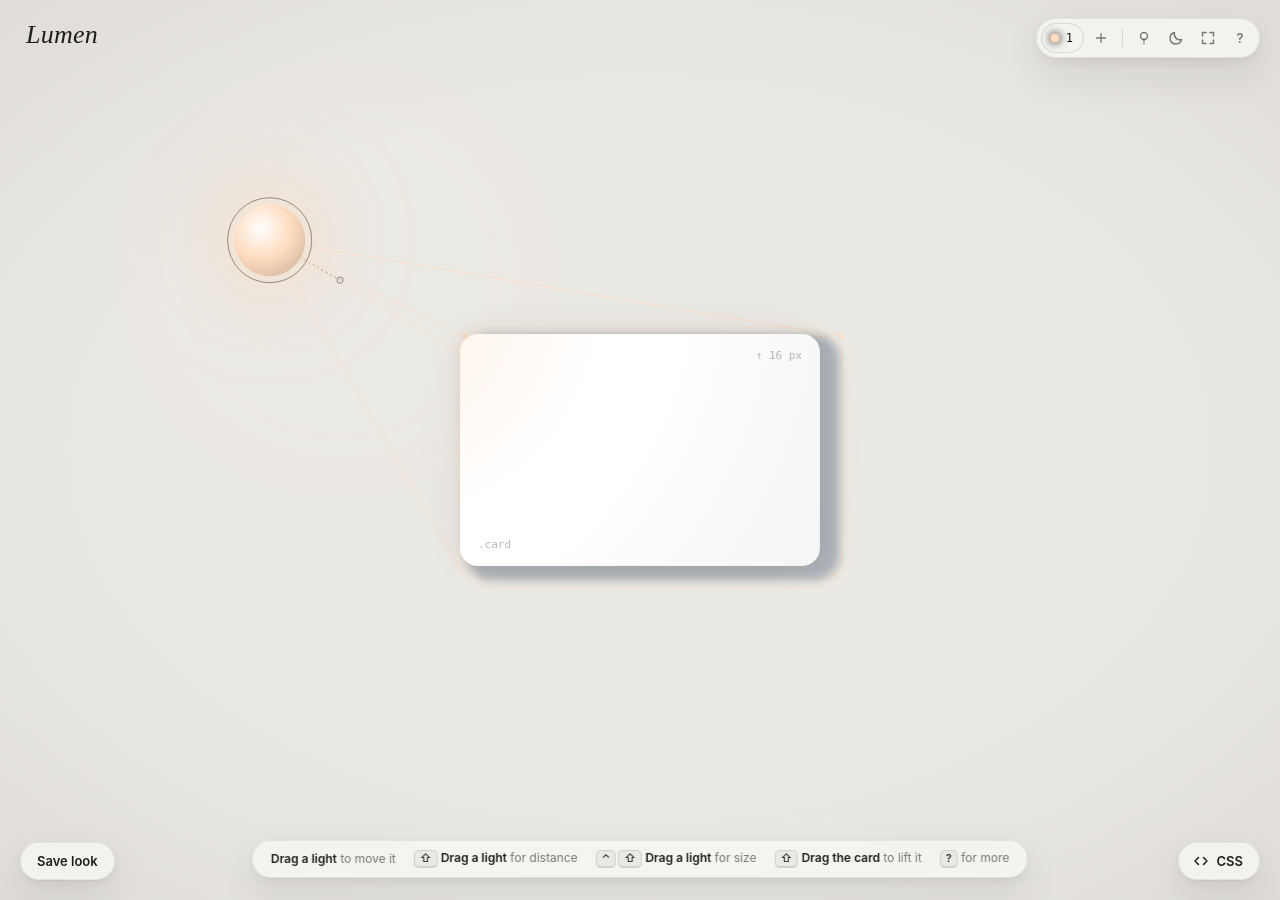
a light button toggles its panel, and typed values change the light
The image size is (1280, 900).
Step 1. Click the button named "Light 1 settings" → (1062, 38), box 1041,23 -> 1084,53
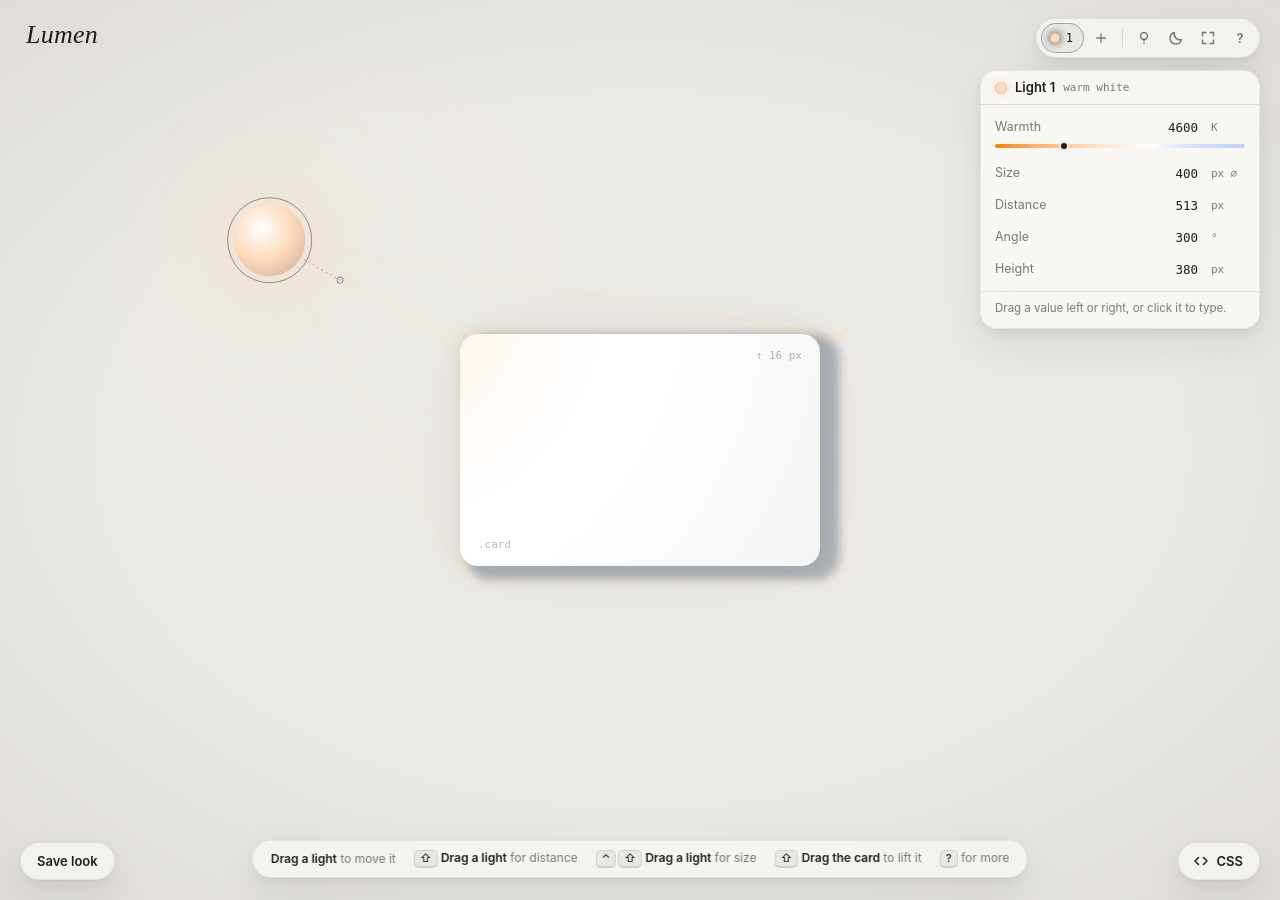
Step 2. Replace the text in the field named "Warmth (K)" with "2700" → (1169, 127), box 1133,114 -> 1205,140
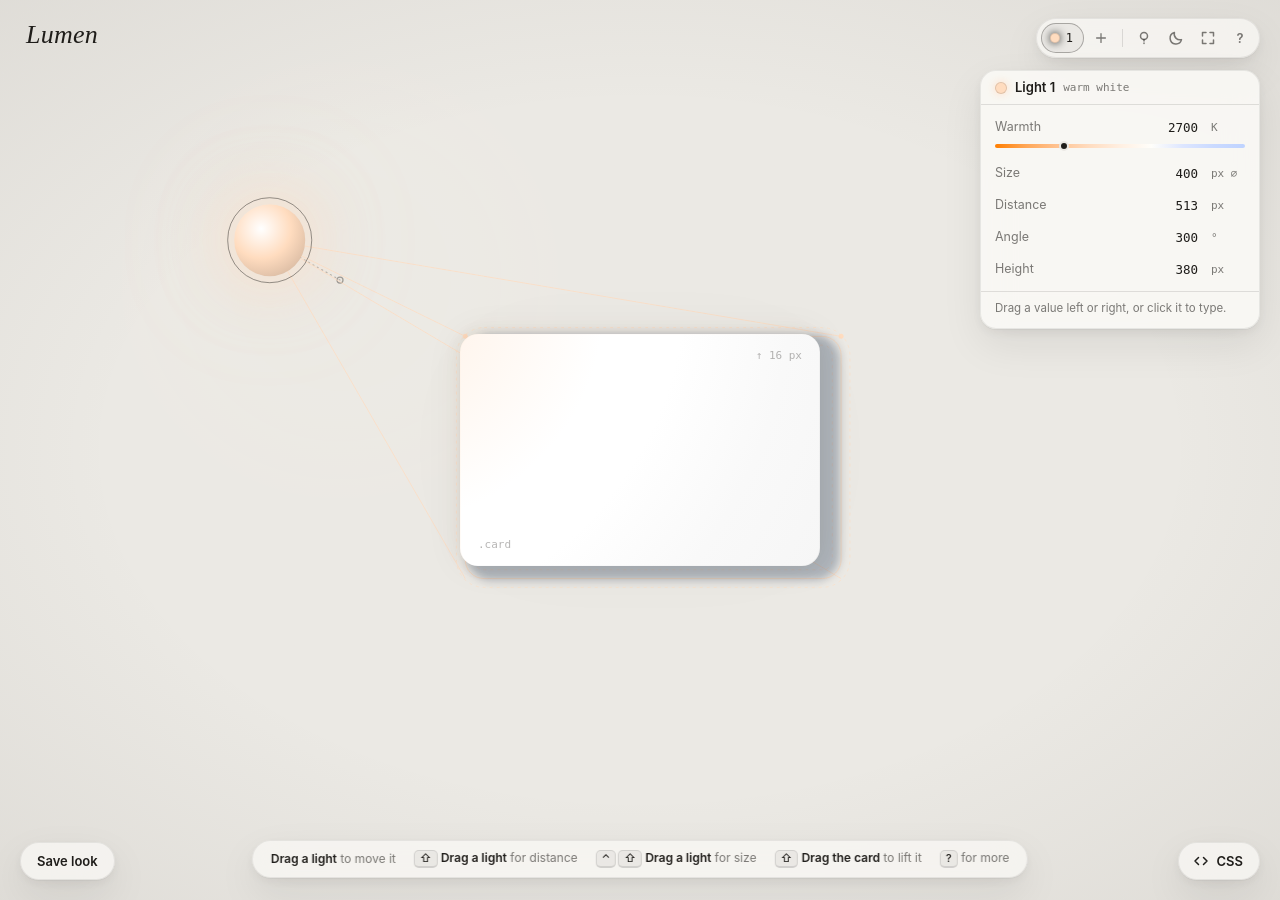
Step 3. Press Enter in the field named "Warmth (K)", box 1133,114 -> 1205,140
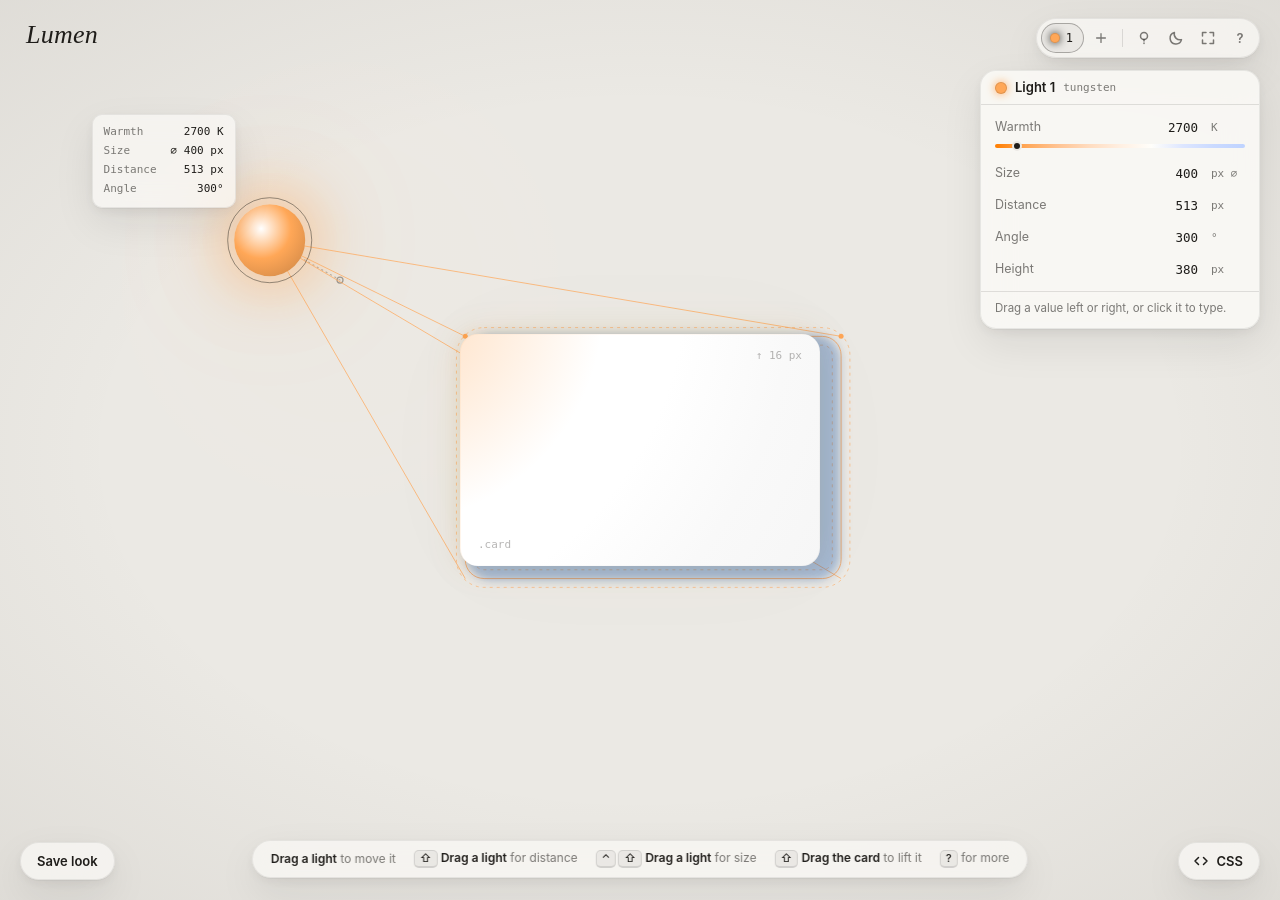
Expected: the button named "light 1, 2700 kelvin" is shown, 234,204 -> 305,276
Step 4. Replace the text in the field named "Warmth (K)" with "99999" → (1169, 127), box 1133,114 -> 1205,140
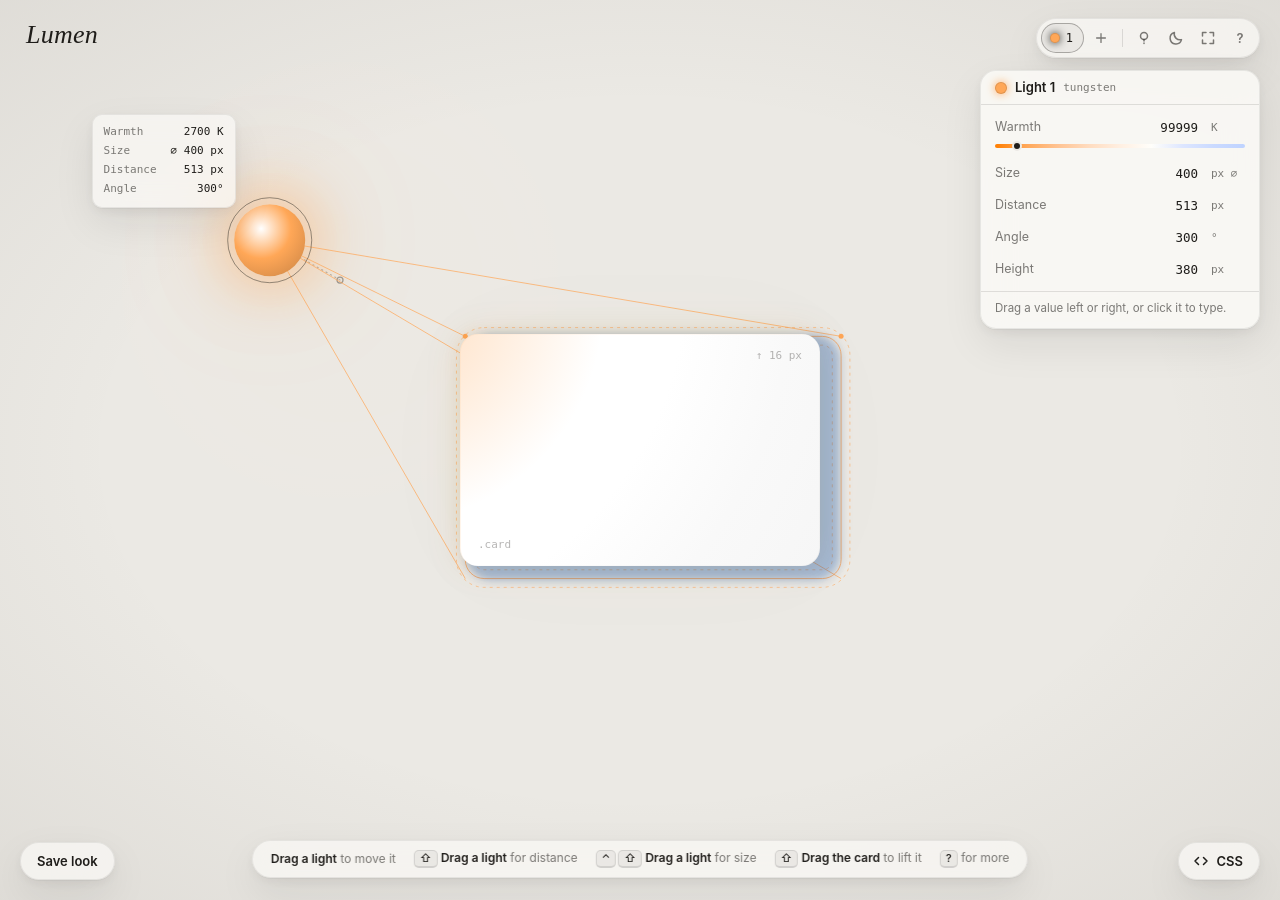
Step 5. Press Enter in the field named "Warmth (K)", box 1133,114 -> 1205,140
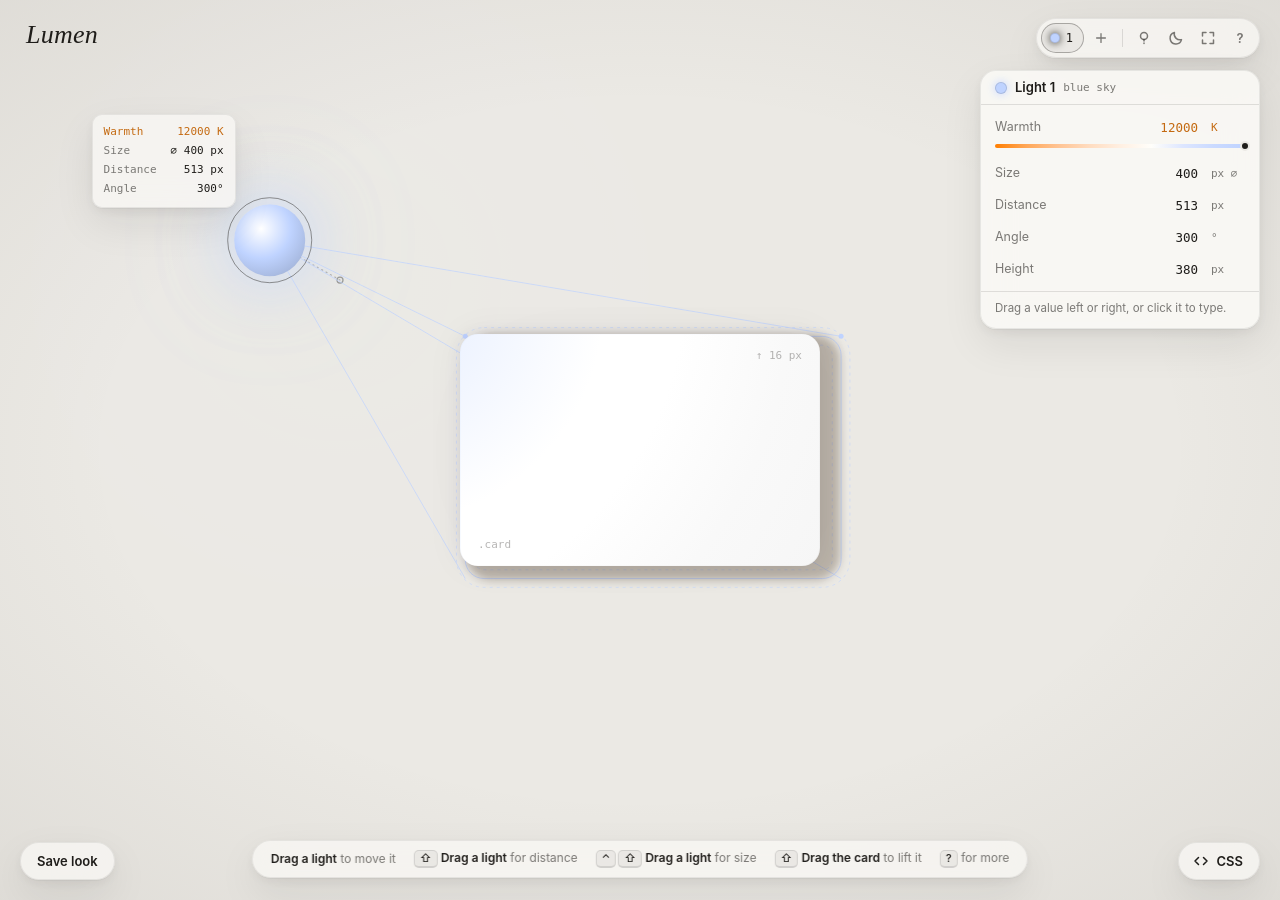
Expected: the button named "light 1, 12000 kelvin" is shown, 234,204 -> 305,276
Step 6. Click the button named "Light 1 settings" → (1062, 38), box 1041,23 -> 1084,53
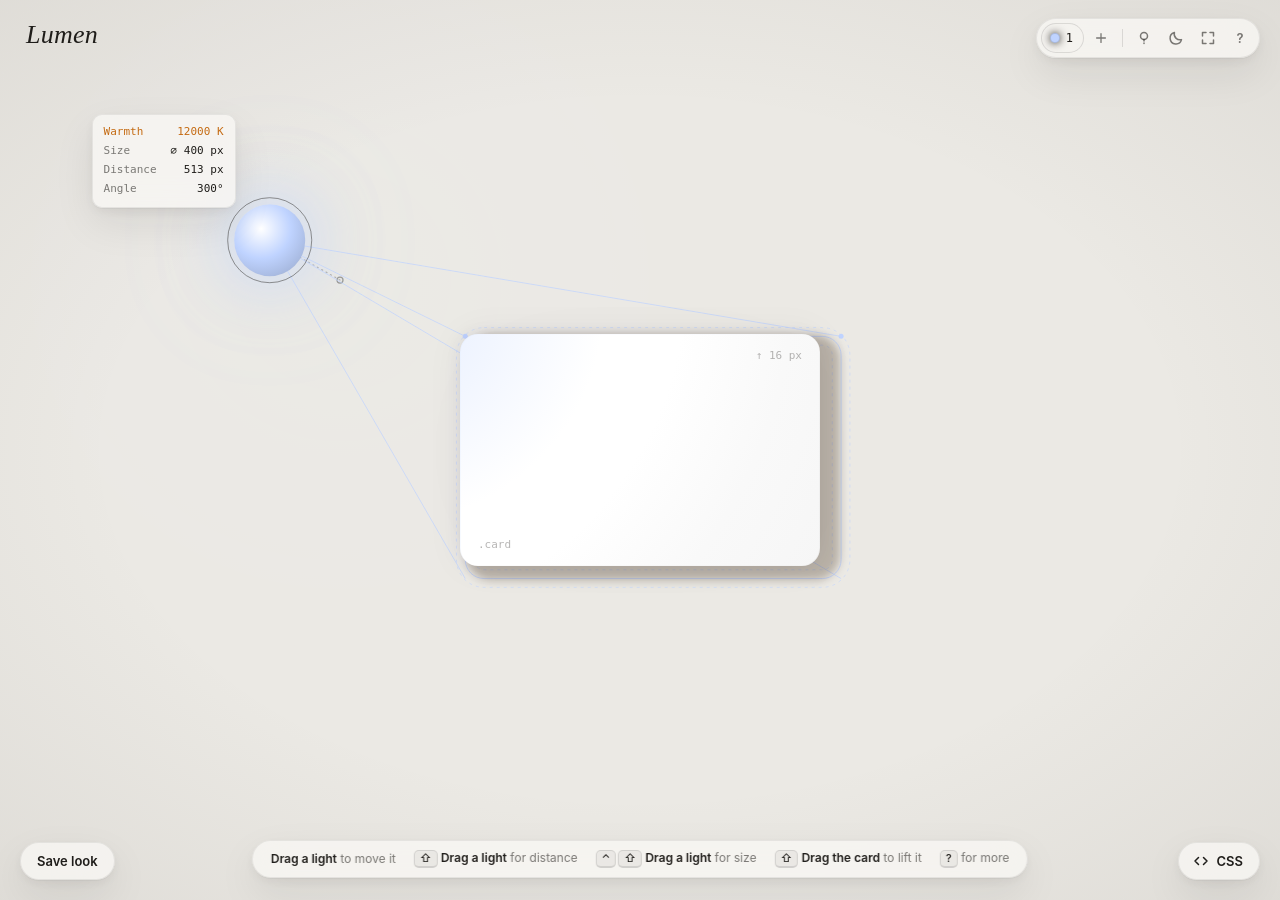
Result: the heading "Light 1" is gone
